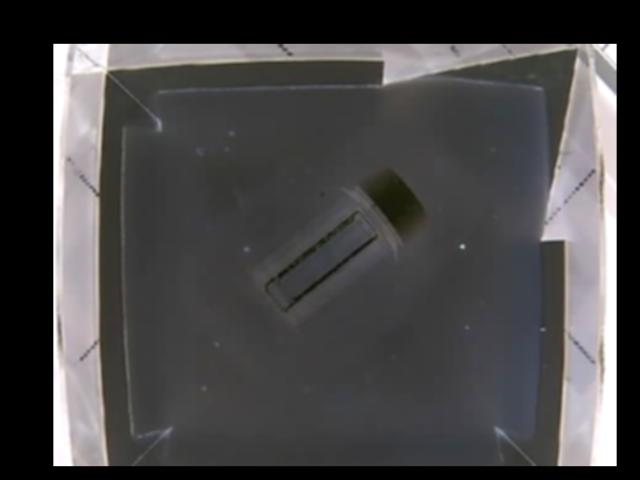Bottle: (248, 167, 424, 328)
